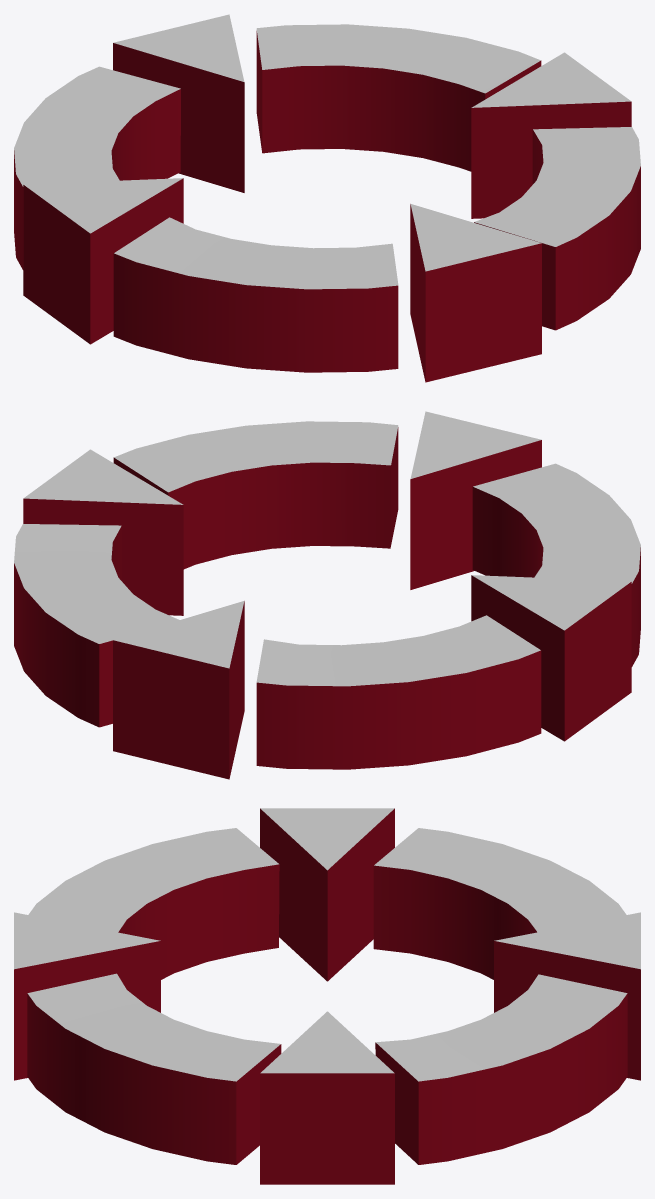
The model's file is target.obj.
3 renders of one model, top to bottom at view 1: azimuth 30°, elevation 25°; view 2: azimuth 150°, elevation 25°; view 3: azimuth 270°, elevation 25°, orthographic.
Visible parts, largest first — view 1: Target; view 2: Target; view 3: Target.
Part boxes in pixels (left/top/right/bottom): Target: left=14, top=14, right=640, bottom=382; Target: left=14, top=411, right=640, bottom=779; Target: left=14, top=808, right=640, bottom=1184.
Size of the model in its own units: 3.96 by 0.7749 by 3.96.
